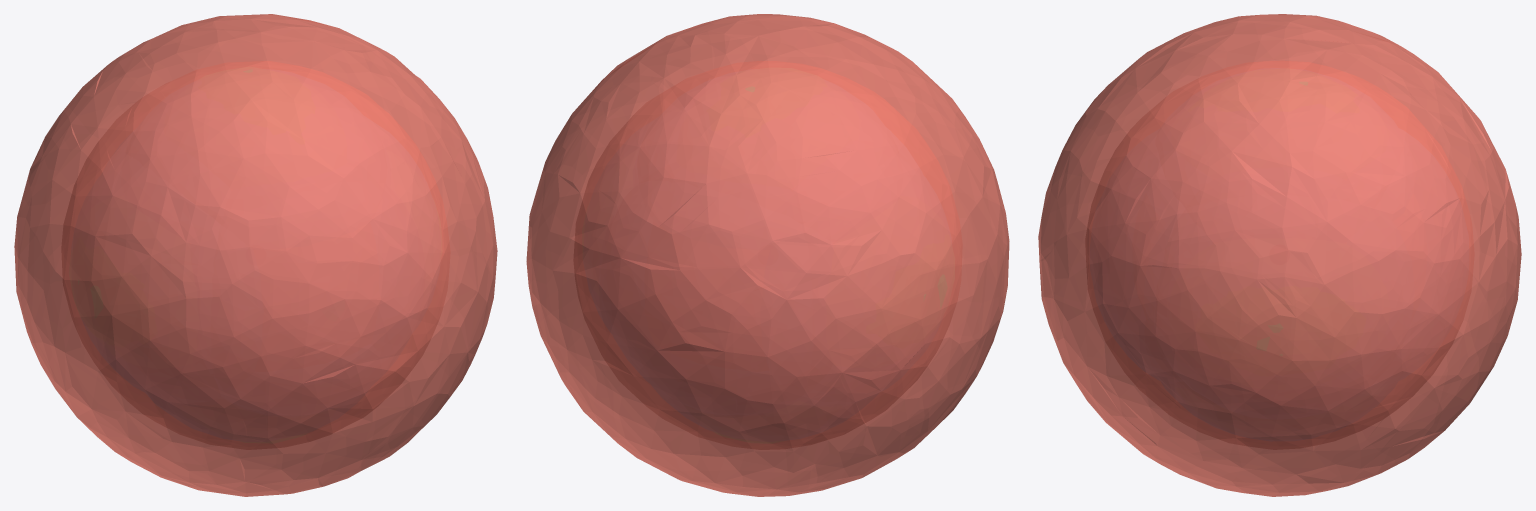
The picture shows the model from 3 angles, left to right: view 1: azimuth 30°, elevation 25°; view 2: azimuth 150°, elevation 25°; view 3: azimuth 270°, elevation 25°; orthographic projection.
Visible parts, largest first — view 1: Y_n5_s_ml0_node, Y_n4_s_ml0_node; view 2: Y_n5_s_ml0_node, Y_n4_s_ml0_node; view 3: Y_n5_s_ml0_node, Y_n4_s_ml0_node.
Boxes of the visible parts, bbox=[...] form: Y_n5_s_ml0_node: bbox=[14, 14, 497, 496]; Y_n4_s_ml0_node: bbox=[61, 61, 450, 449]; Y_n5_s_ml0_node: bbox=[526, 14, 1009, 496]; Y_n4_s_ml0_node: bbox=[573, 61, 962, 449]; Y_n5_s_ml0_node: bbox=[1038, 14, 1521, 496]; Y_n4_s_ml0_node: bbox=[1085, 61, 1474, 449].
Bounding box in the file's own units: 2.56 × 2.56 × 2.56.
